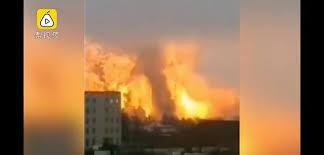fire: (79, 32, 226, 125)
